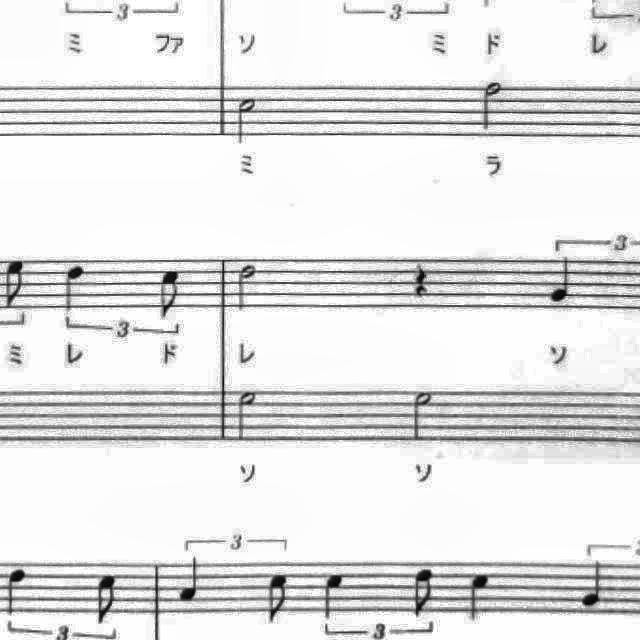Eighth-note: (89, 568, 125, 628), (153, 262, 189, 322), (408, 564, 444, 624), (261, 570, 295, 630), (0, 254, 32, 312)
Half-note: (474, 74, 510, 138), (406, 384, 440, 446), (231, 88, 265, 148), (232, 256, 264, 316), (232, 386, 264, 446)
Quarter-note: (576, 555, 618, 613), (462, 567, 498, 629), (314, 566, 350, 626), (544, 252, 582, 308), (56, 258, 92, 316), (0, 562, 34, 622), (172, 555, 208, 609)
Quarter-rest: (407, 256, 438, 304)
